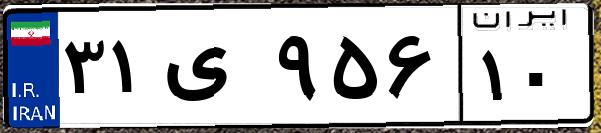0: (525, 38, 570, 115)
1: (475, 38, 525, 113), (110, 28, 158, 98)
3: (57, 26, 110, 100)
5: (330, 28, 385, 110)
6: (385, 28, 445, 110)
9: (270, 28, 330, 110)
ی: (158, 20, 270, 120)
